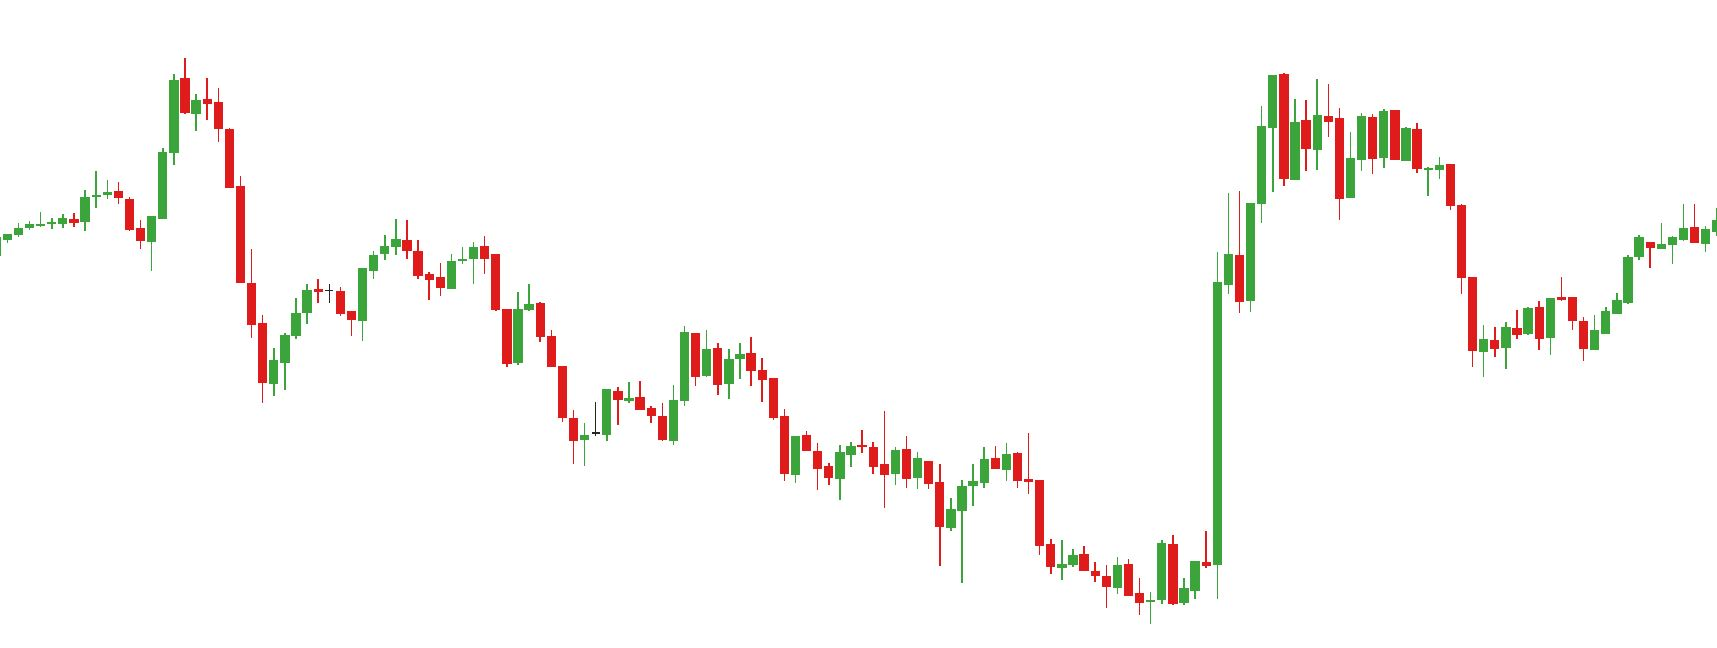buy: (1532, 306, 1601, 364)
